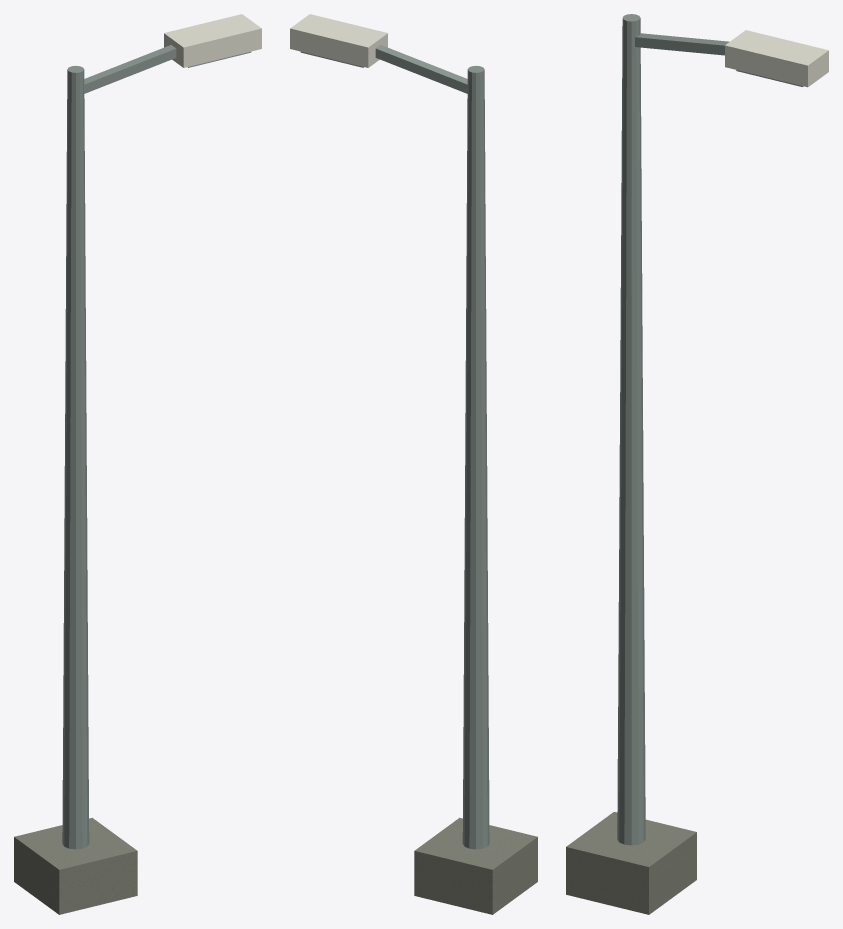
The model's file is yard_lamp.glb.
3 renders of one model, left to right at view 1: azimuth 30°, elevation 25°; view 2: azimuth 150°, elevation 25°; view 3: azimuth 330°, elevation 25°, orthographic. The views are drawn at different scales.
Parts seen in each view (by area): view 1: yard_lamp; view 2: yard_lamp; view 3: yard_lamp.
Boxes of the visible parts, bbox=[...] form: yard_lamp: bbox=[14, 14, 261, 914]; yard_lamp: bbox=[290, 14, 537, 914]; yard_lamp: bbox=[566, 14, 828, 914].
Size of the model in its own units: 2.2 by 8.05 by 0.8.
4 materials, 1 textured.
